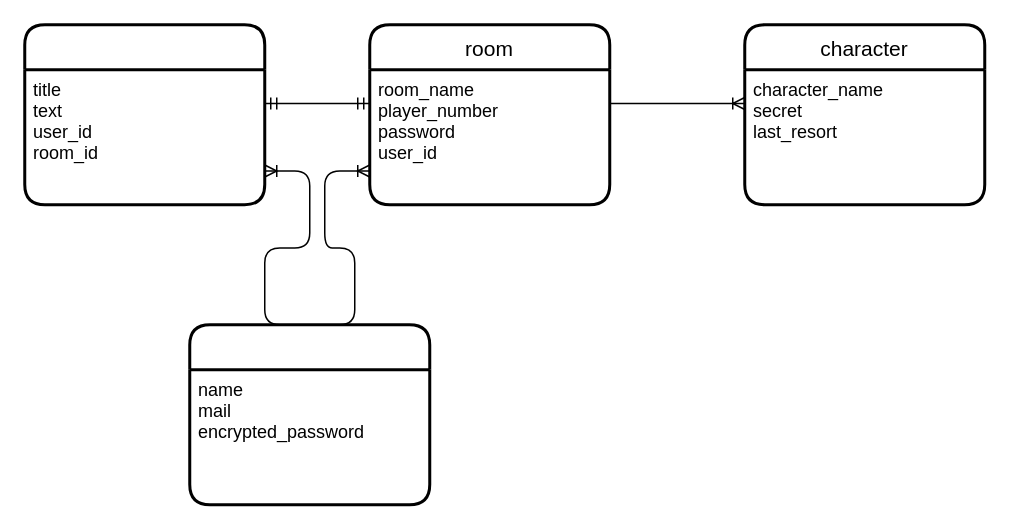
Some shapes in this 1010 by 530 pixel diagram are drawn without their labels. The shapes that lost their labels are listed below. From the top down, each one's box as (x1, y1, x2, y2) in pixels, then its label:
(22, 22, 266, 206): session_log
(188, 322, 430, 506): user
